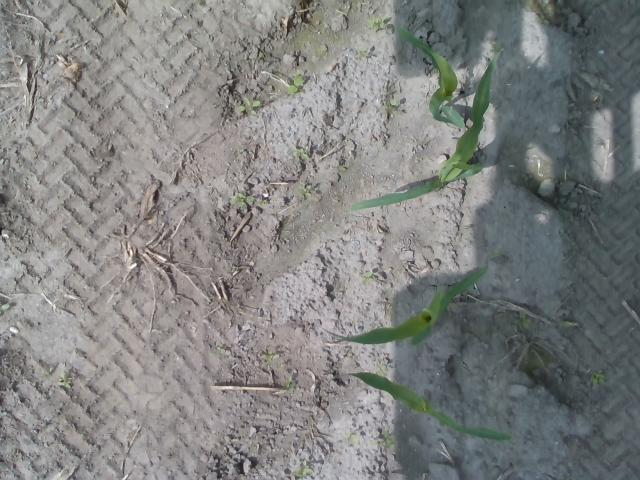Maize: (346, 46, 500, 215), (321, 265, 489, 347), (348, 371, 512, 445), (398, 26, 464, 129)
Weeds: (286, 71, 306, 95), (238, 95, 262, 112), (367, 16, 392, 31), (382, 432, 400, 451), (229, 192, 252, 206), (292, 144, 310, 160), (590, 371, 608, 386), (296, 184, 312, 200), (518, 311, 530, 329), (294, 466, 312, 476), (382, 99, 400, 108), (58, 376, 71, 388), (0, 302, 10, 316), (362, 272, 372, 284), (357, 48, 369, 58), (286, 375, 294, 390), (495, 48, 504, 55), (267, 351, 274, 359)
